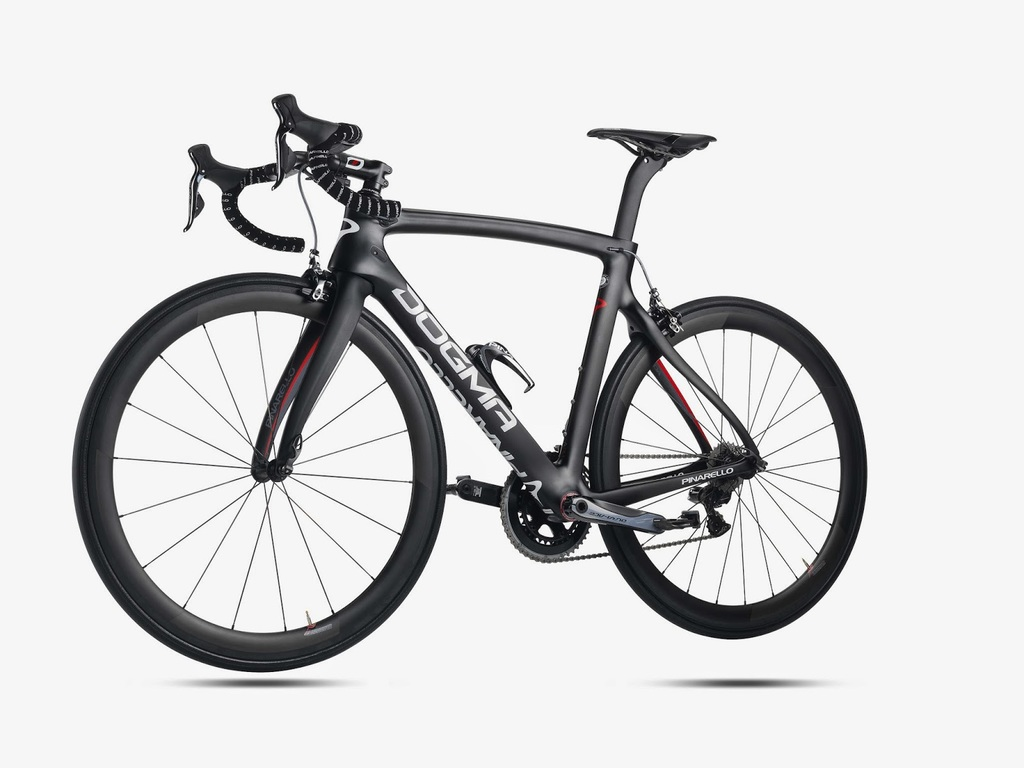Bicycle: (37, 68, 904, 693)
